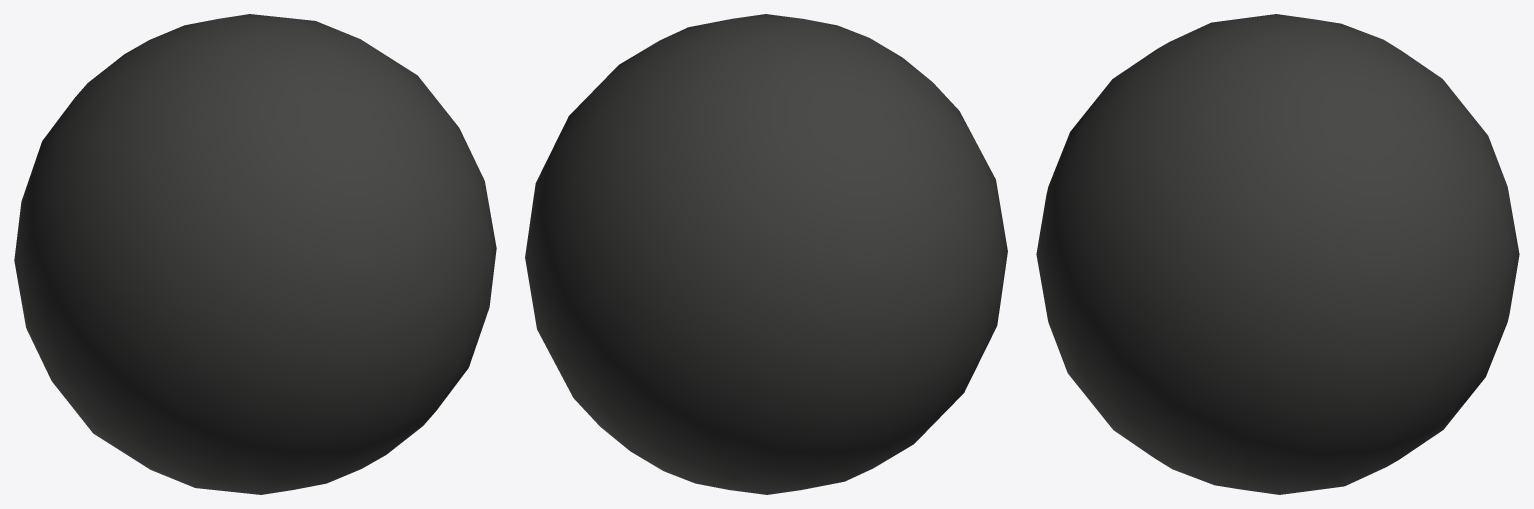
3 views of the same model, side by side, from view 1: azimuth 30°, elevation 25°; view 2: azimuth 150°, elevation 25°; view 3: azimuth 270°, elevation 25° (orthographic).
Visible parts, largest first — view 1: GeoSphere292; view 2: GeoSphere292; view 3: GeoSphere292.
Boxes of the visible parts, x1,y1,x2,y2 form: GeoSphere292: (14, 14, 496, 494); GeoSphere292: (525, 14, 1007, 494); GeoSphere292: (1036, 14, 1519, 494).
Bounding box in the file's own units: 40 × 40 × 40.
Materials: 1 (1 with a texture image).
